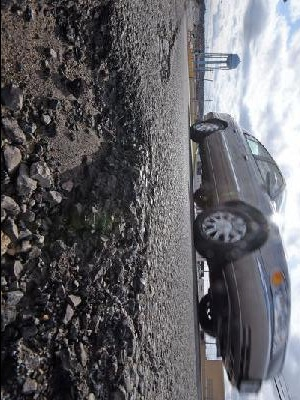pothole: (0, 0, 155, 400), (158, 48, 172, 88)
